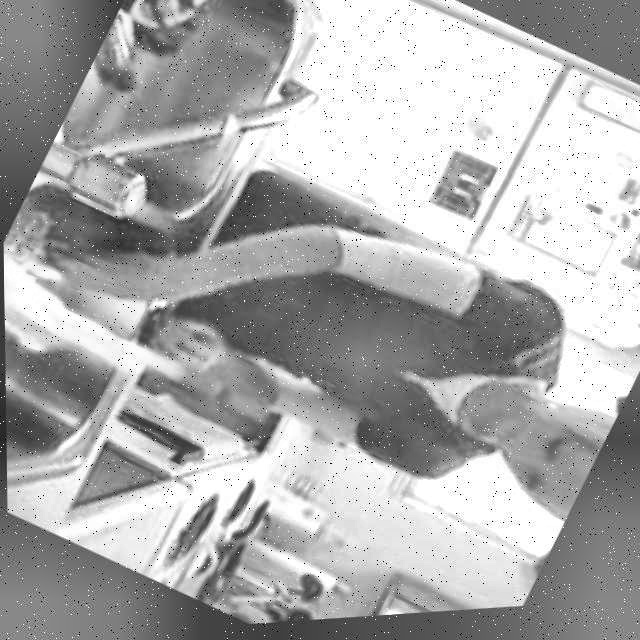Fire: (3, 235, 213, 431)
